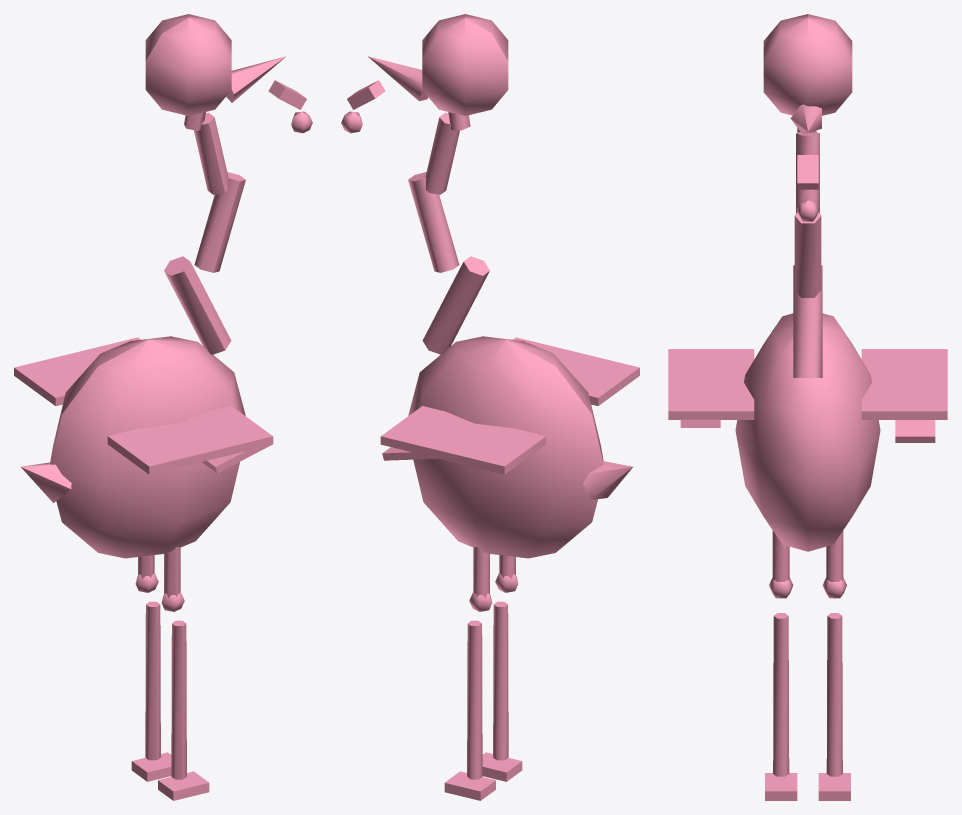
Rendered from flamingo.glb.
The picture shows the model from 3 angles, left to right: view 1: azimuth 30°, elevation 25°; view 2: azimuth 150°, elevation 25°; view 3: azimuth 270°, elevation 25°; orthographic projection. The views are drawn at different scales.
Visible parts, largest first — view 1: Bird; view 2: Bird; view 3: Bird.
Boxes of the visible parts, x1,y1,x2,y2 form: Bird: [14, 14, 312, 800]; Bird: [341, 14, 639, 800]; Bird: [668, 14, 947, 800].
Bounding box in the file's own units: 0.3984 × 1 × 0.323.
